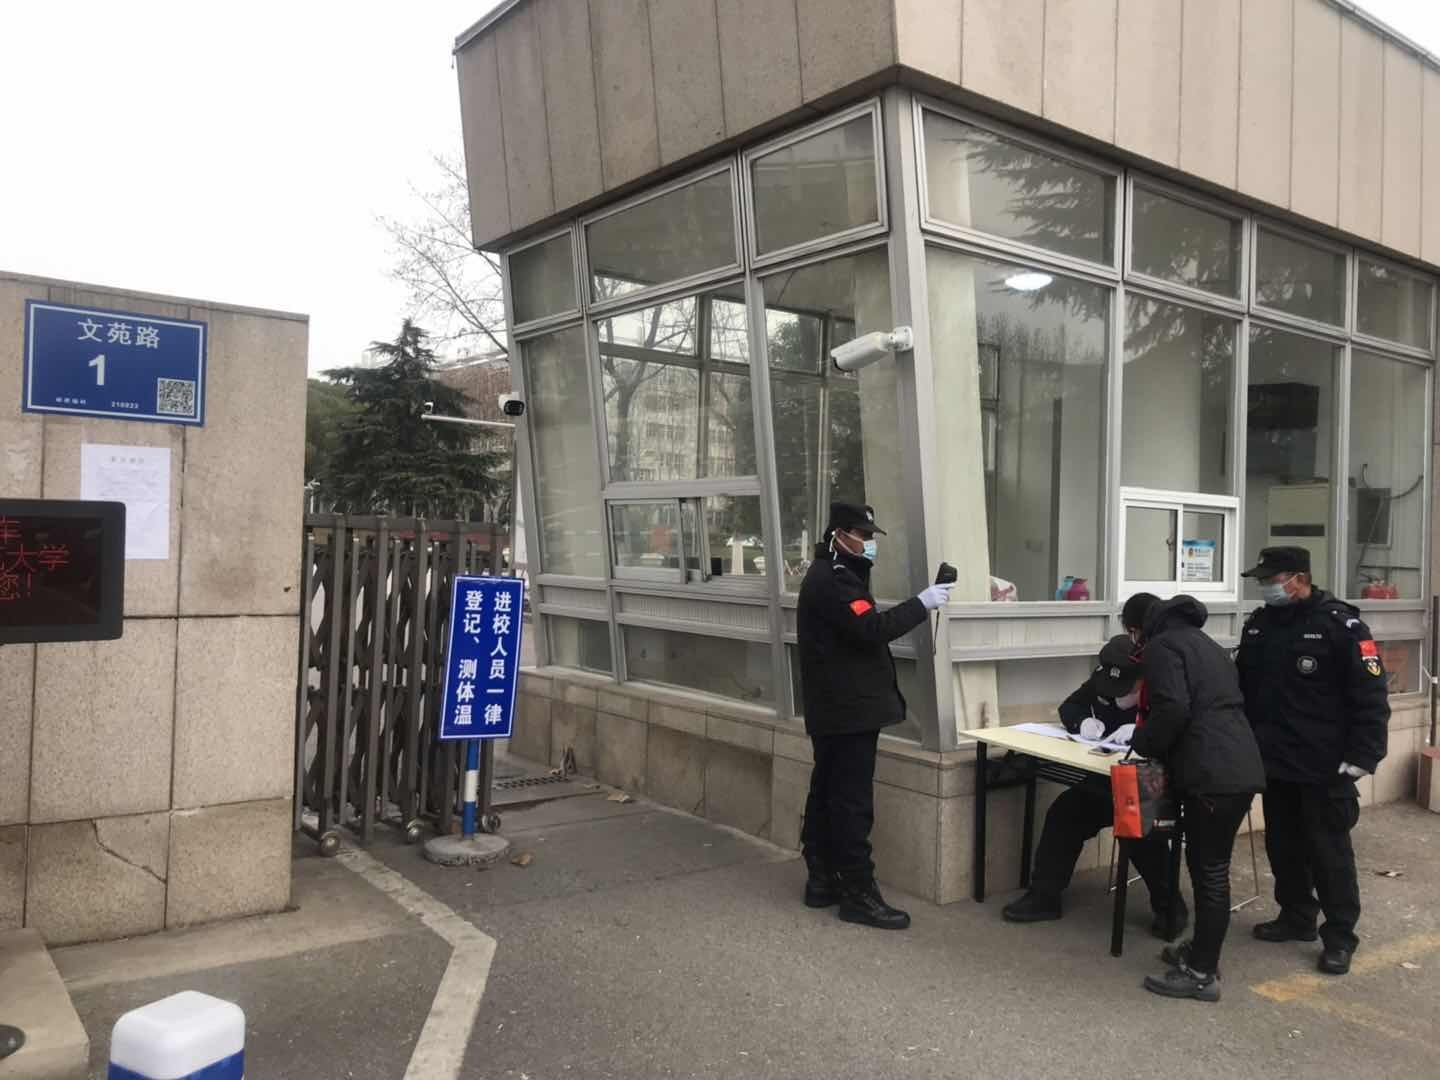correctlyWear: (1253, 566, 1314, 608), (828, 529, 880, 565)
